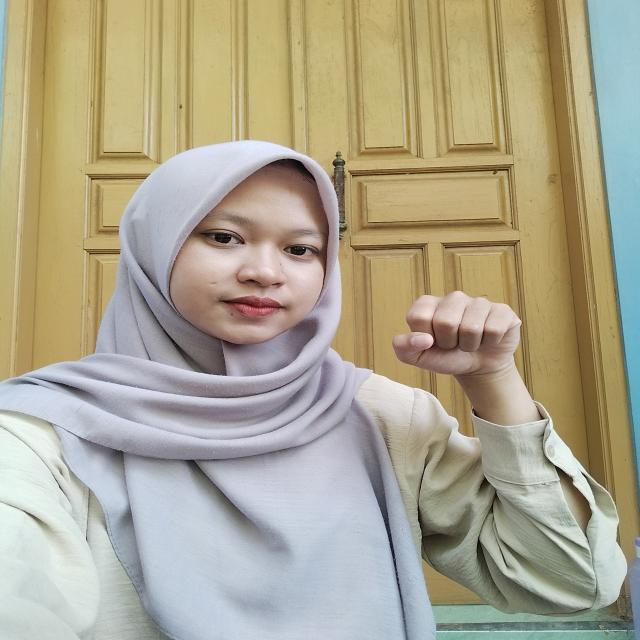baik: (369, 270, 550, 404)
